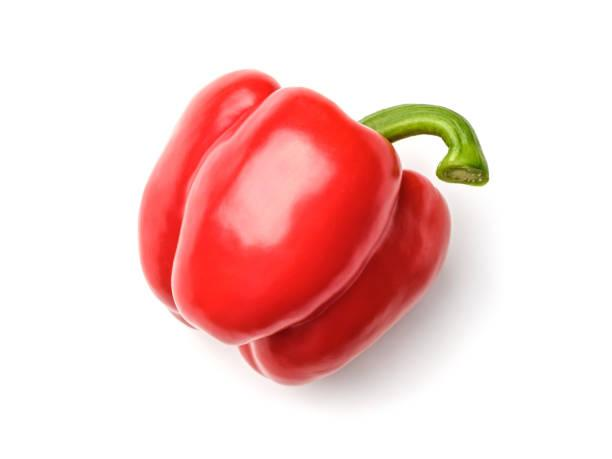Capsicum: (140, 71, 488, 383)
